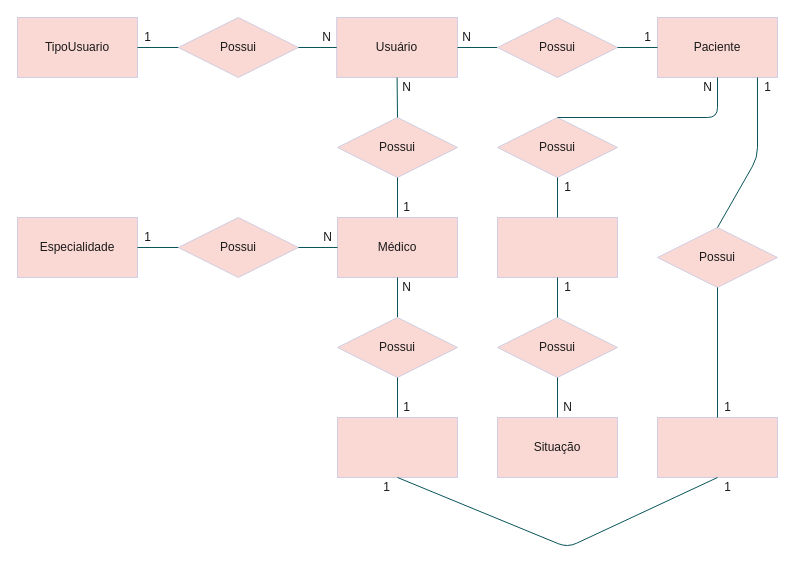
Image size: 795x566. Some labels were removed from this diagram. Here are the shapes that lost their labels. From the top down, the box of each, then its label:
(496, 216, 618, 278): Consulta
(336, 416, 458, 478): Clinica
(656, 416, 778, 478): Endereço
